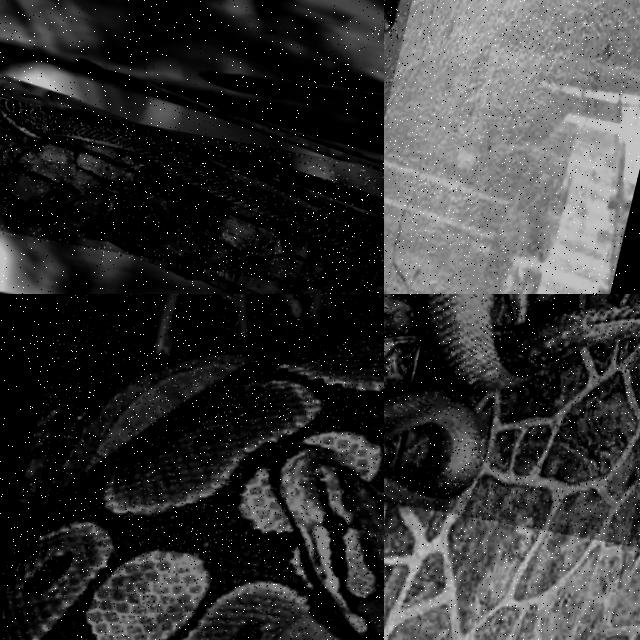Chrysopelea ornata: (0, 103, 383, 271)
Naja kaouthia: (420, 294, 639, 391)
Python bivittatus: (2, 323, 383, 639)
Trimeresurus macrops: (384, 0, 398, 31)
snake: (2, 323, 383, 639), (0, 103, 383, 271), (420, 294, 639, 391), (384, 0, 398, 31)
